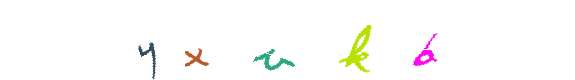B: (385, 0, 465, 80)
K: (318, 0, 398, 80)
V: (246, 0, 326, 80)
X: (185, 0, 265, 80)
Y: (155, 0, 235, 80)
